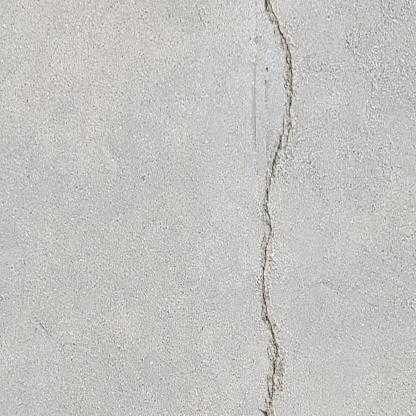crack: (262, 0, 294, 408)
